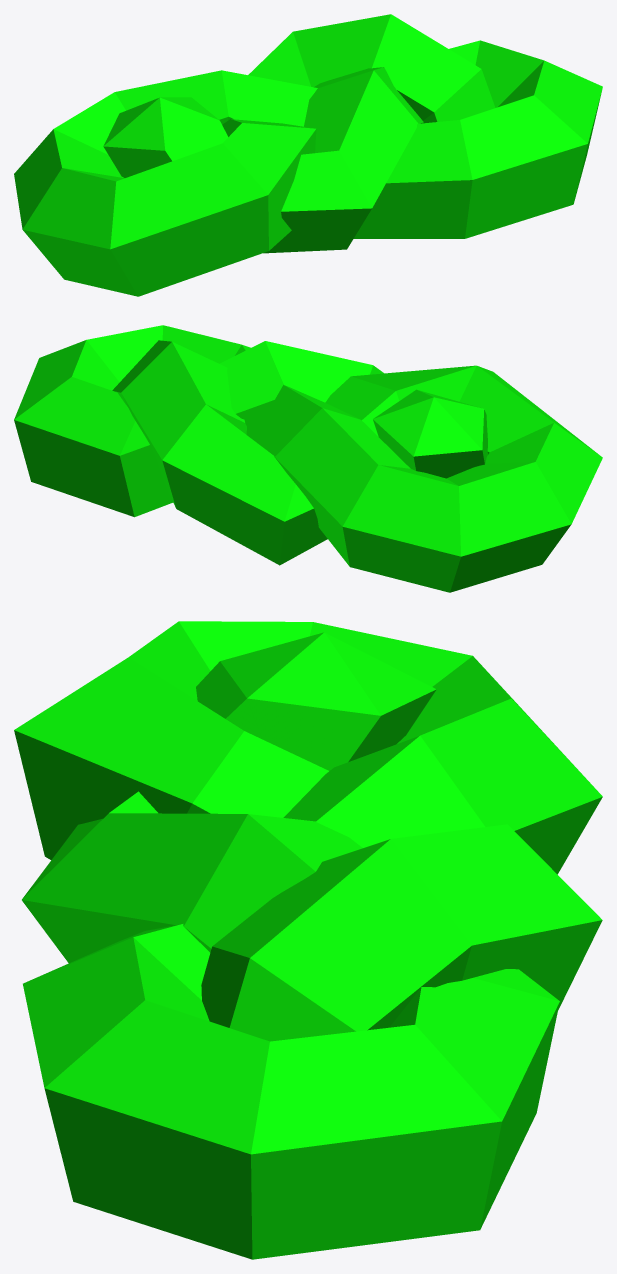
Rendered from SM_Bun_Wheat.fbx.
3 renders of one model, top to bottom at view 1: azimuth 30°, elevation 25°; view 2: azimuth 150°, elevation 25°; view 3: azimuth 270°, elevation 25°, orthographic. The views are drawn at different scales.
Visible parts, largest first — view 1: bun-wheat; view 2: bun-wheat; view 3: bun-wheat.
Boxes of the visible parts, box(x1,y1,x2,y2) form: bun-wheat: box(14, 14, 602, 296); bun-wheat: box(14, 325, 602, 592); bun-wheat: box(14, 621, 602, 1259).
Bounding box in the file's own units: 0.2578 × 0.0744 × 0.1273.
